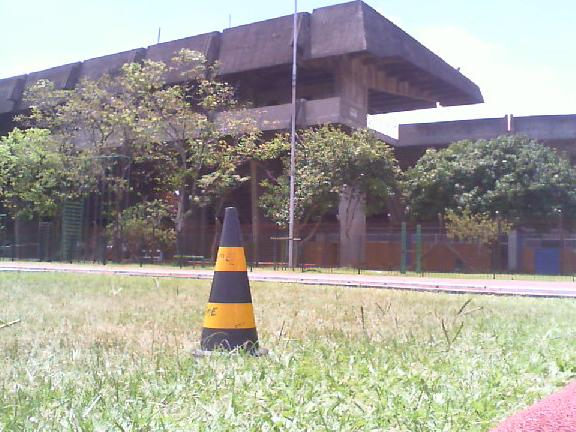0 cone: (192, 207, 269, 356)
